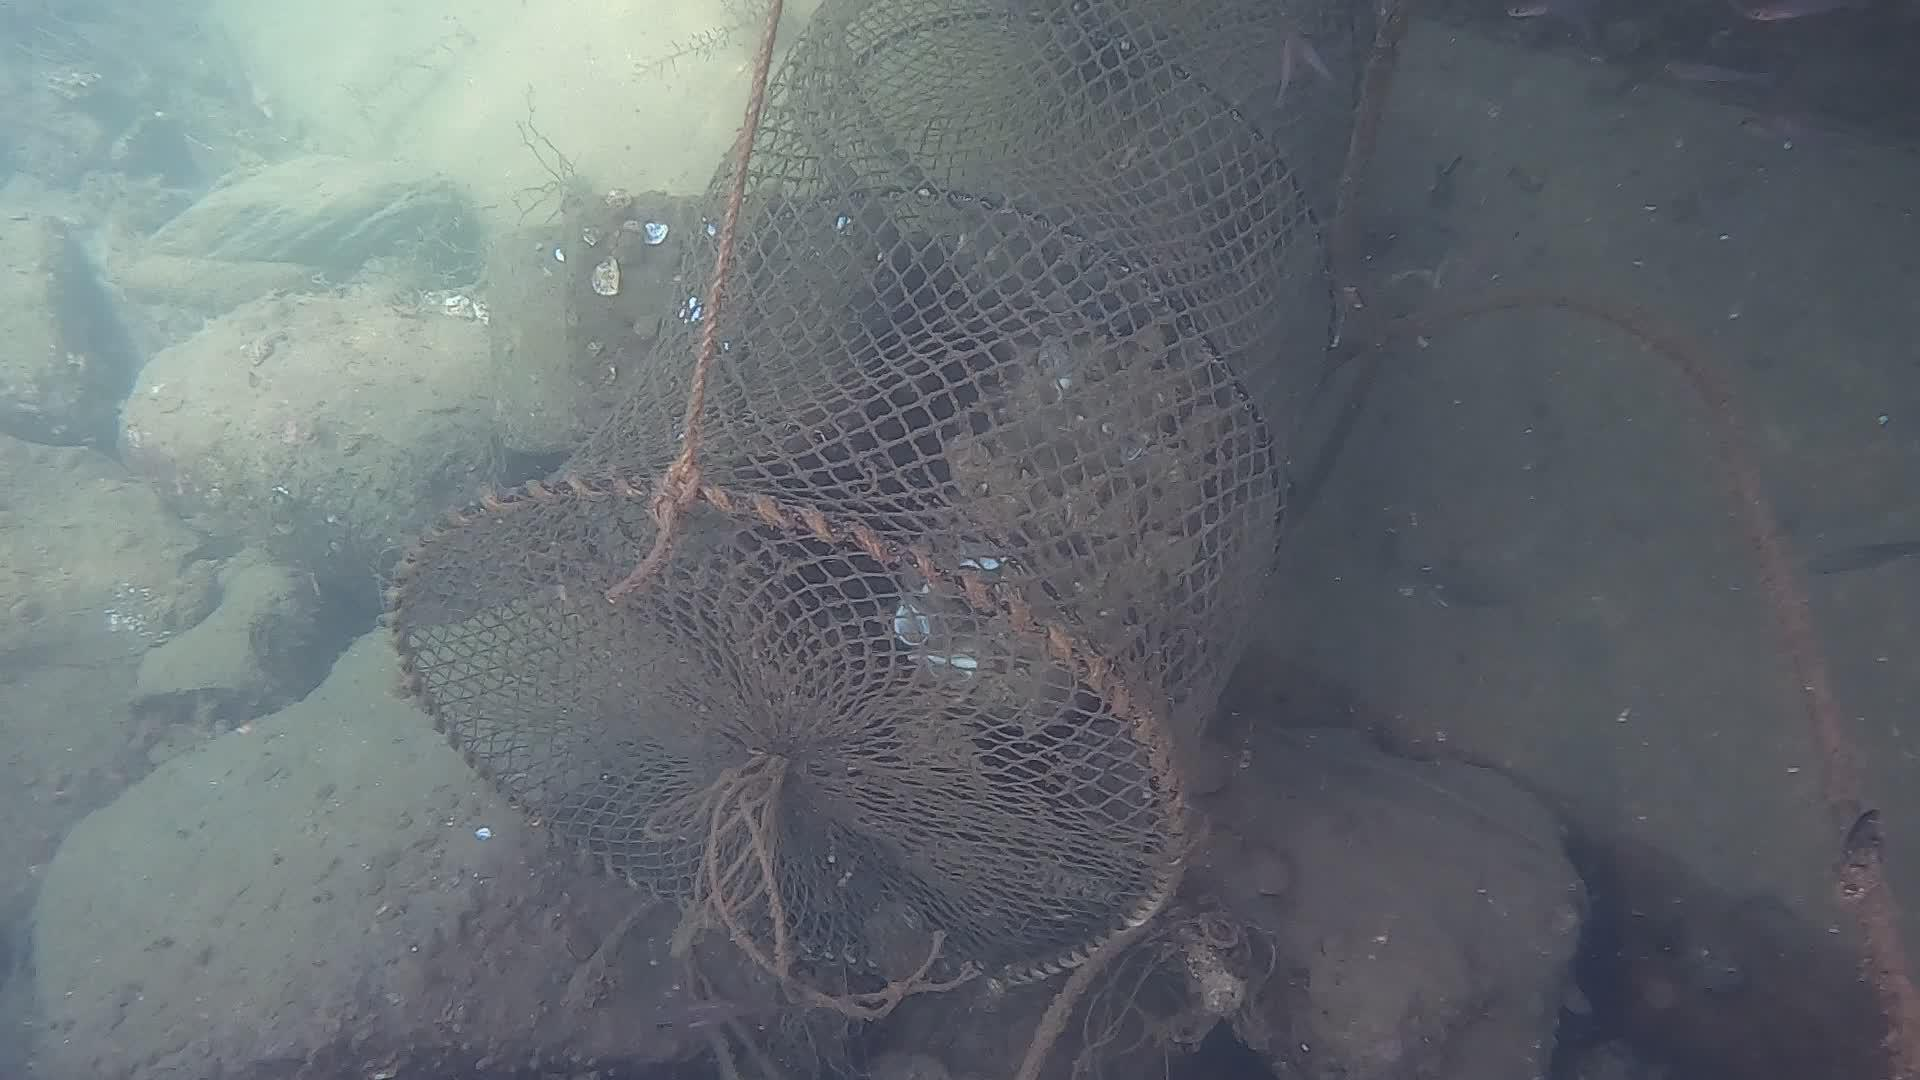bundle of ropes: (605, 0, 793, 603)
rope: (1333, 284, 1920, 1077)
spring fish trap: (378, 0, 1404, 982)
